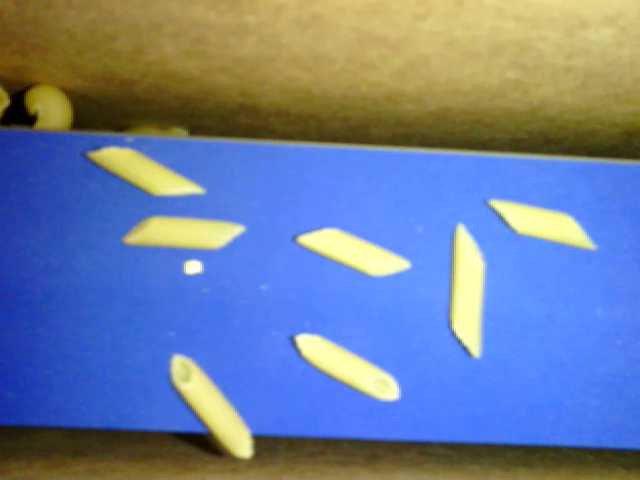penne: (289, 327, 403, 404), (172, 356, 255, 459), (289, 224, 413, 281), (488, 196, 600, 256), (85, 144, 208, 197), (120, 216, 249, 256), (449, 220, 484, 362)
shell: (22, 83, 73, 133)
